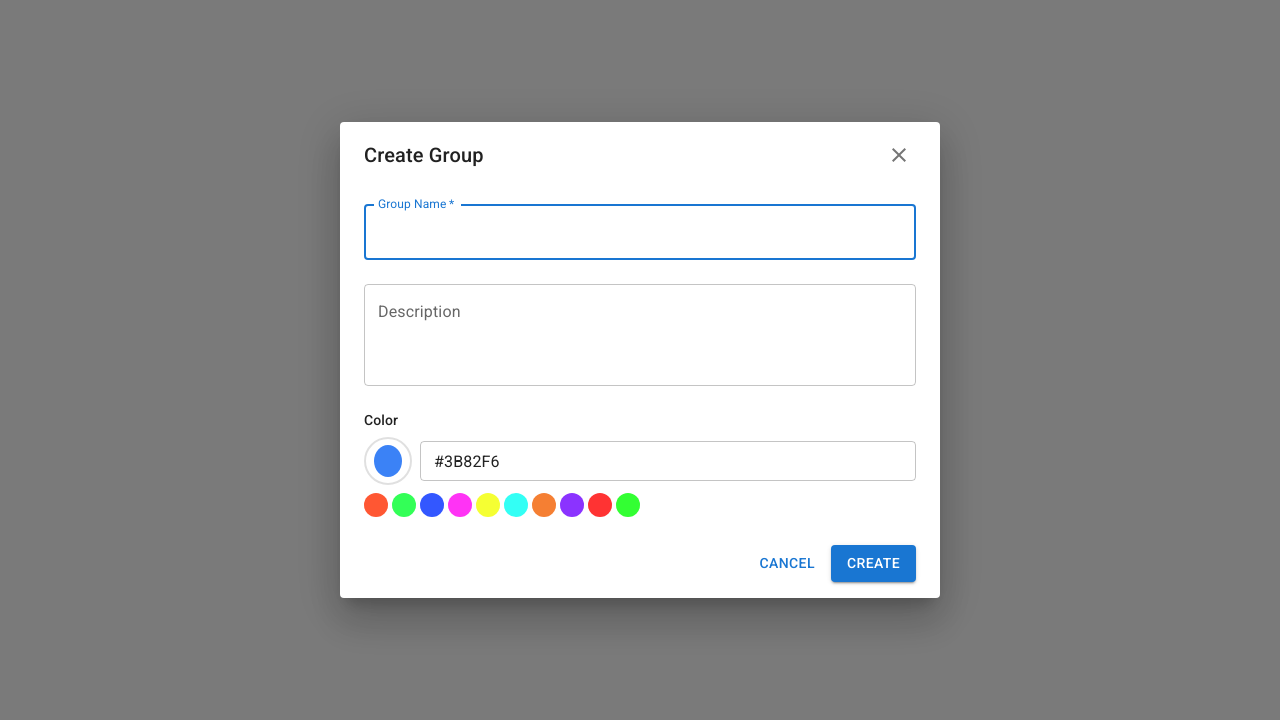
Scenario: GroupManagementDialog Component › Color Picker › should allow selecting a color
The image size is (1280, 720).
Find and click color picker button
Click the button named "Choose color". click: (388, 461)
box: [364, 437, 412, 485]
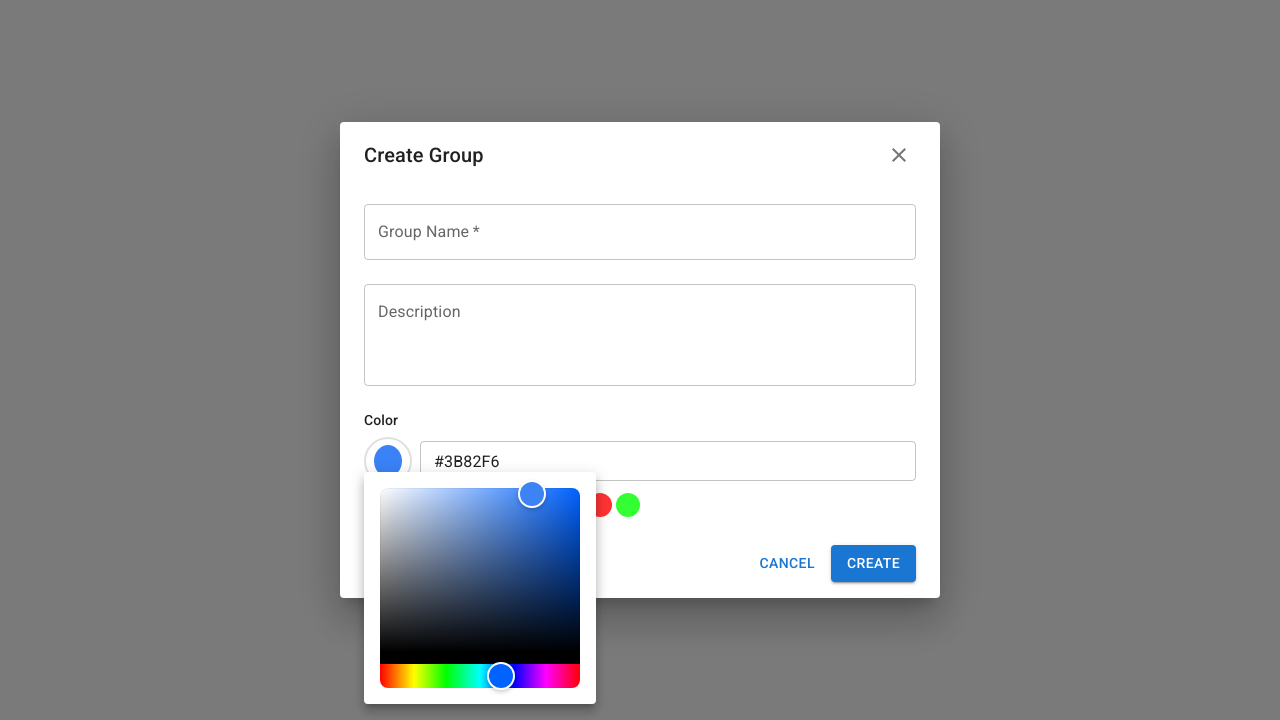
Expected: the element with test id "color-picker" is shown, [364, 472, 596, 704]
